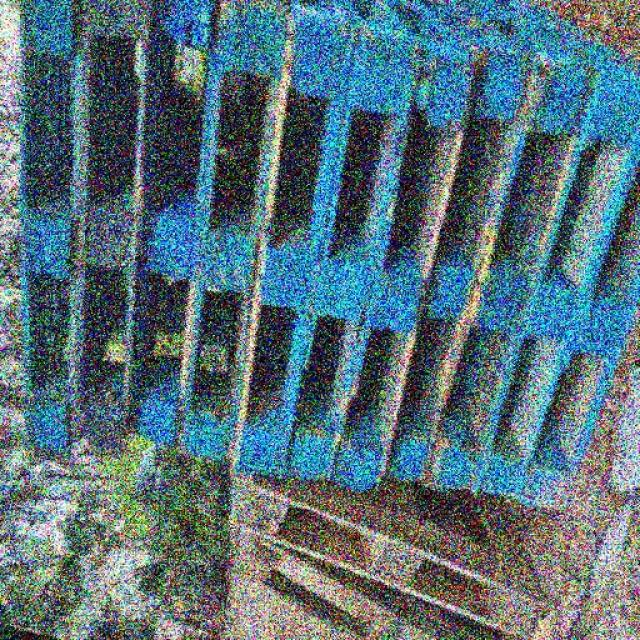non-igps: (410, 0, 608, 506), (375, 0, 551, 494), (320, 0, 485, 501), (465, 63, 639, 511), (277, 0, 431, 488), (214, 0, 366, 491), (161, 0, 304, 478), (220, 465, 555, 640), (507, 123, 639, 524), (115, 0, 229, 459), (56, 0, 165, 466), (0, 0, 106, 468), (216, 516, 568, 639)
